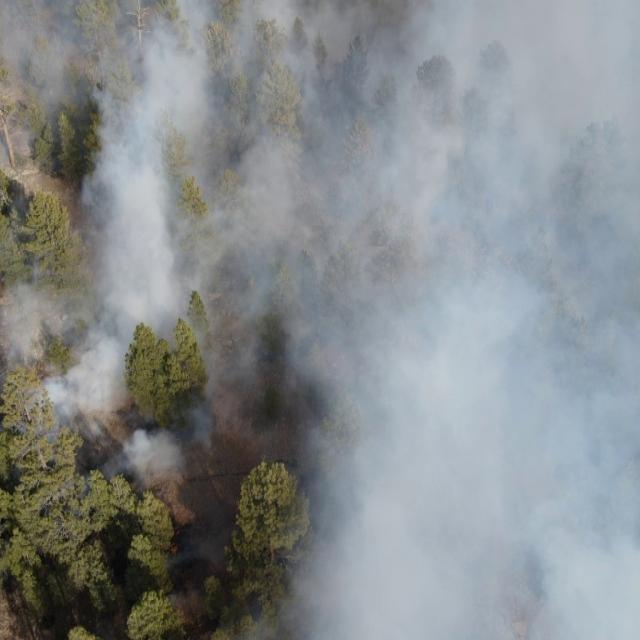fire: (171, 529, 180, 556)
smoke: (124, 0, 640, 340), (0, 0, 125, 522), (287, 461, 640, 640), (200, 340, 640, 462), (163, 527, 287, 640), (124, 392, 228, 482)
